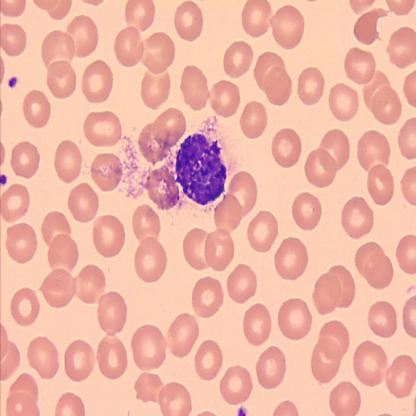Basophil: (171, 130, 238, 209)
